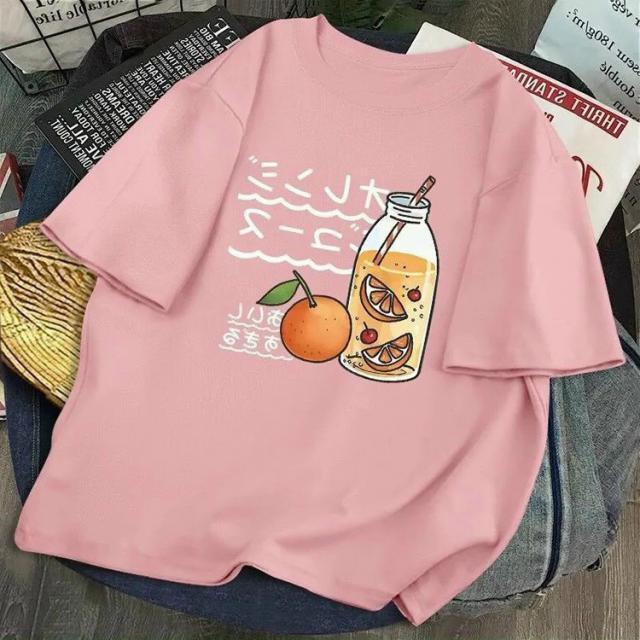Shirt: (13, 11, 624, 623)
